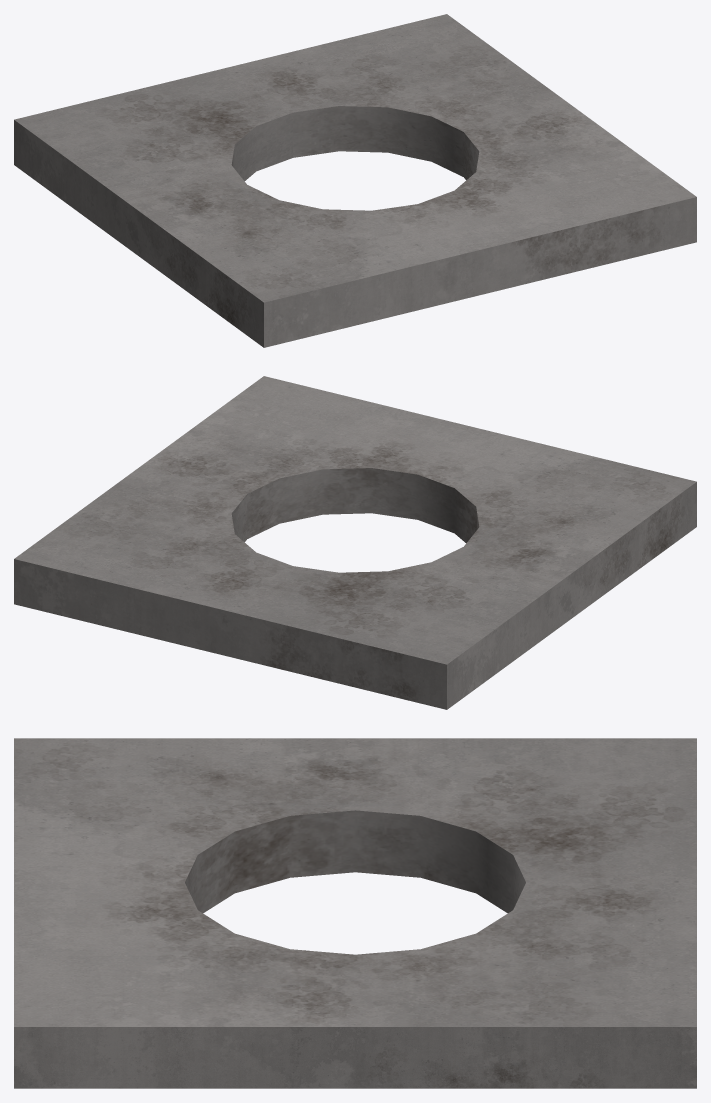
File: ceiling_fan.fbx
3 renders of one model, top to bottom at view 1: azimuth 30°, elevation 25°; view 2: azimuth 150°, elevation 25°; view 3: azimuth 270°, elevation 25°, orthographic. The views are drawn at different scales.
Visible parts, largest first — view 1: Plane.051; view 2: Plane.051; view 3: Plane.051.
Boxes of the visible parts, x1,y1,x2,y2 form: Plane.051: (14, 14, 696, 347); Plane.051: (14, 376, 696, 709); Plane.051: (14, 738, 696, 1088).
Bounding box in the file's own units: 400 × 40.02 × 400.
